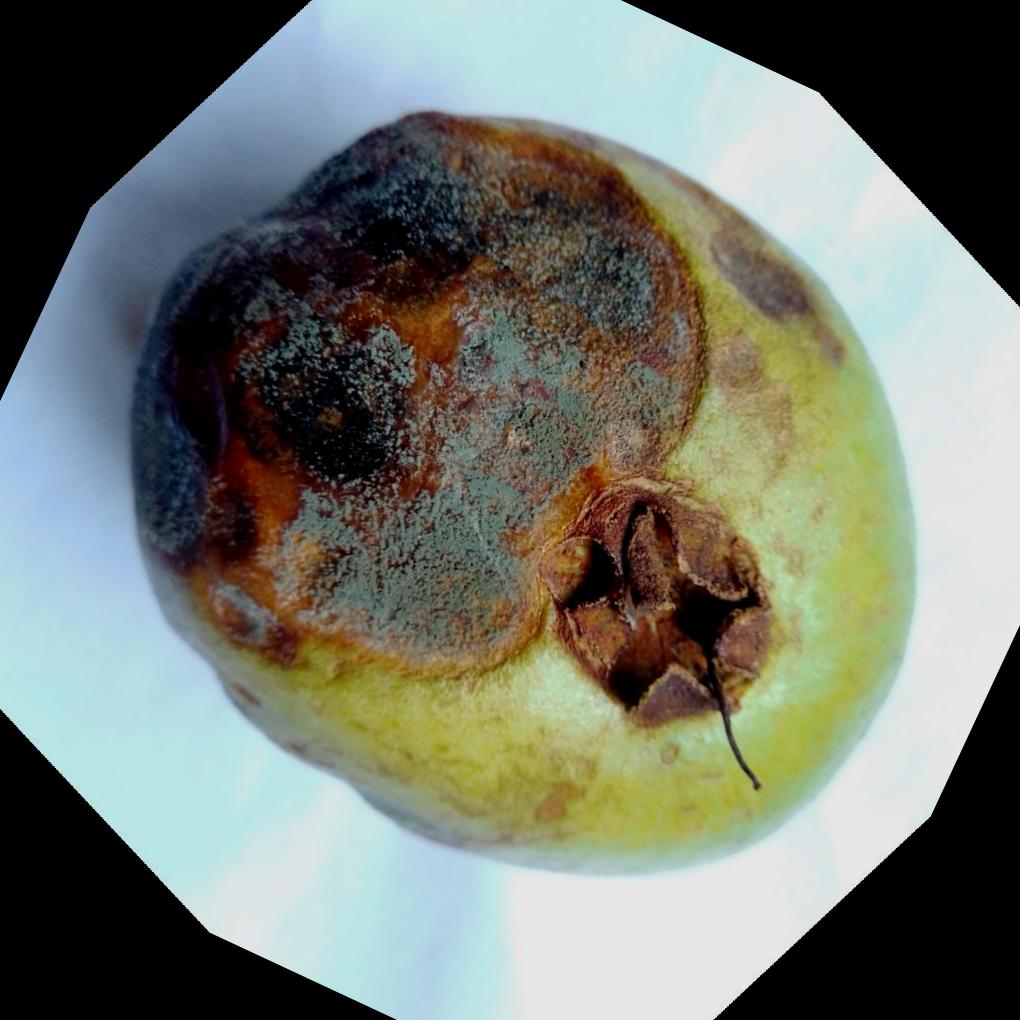FreshOrange: (127, 104, 920, 874)
